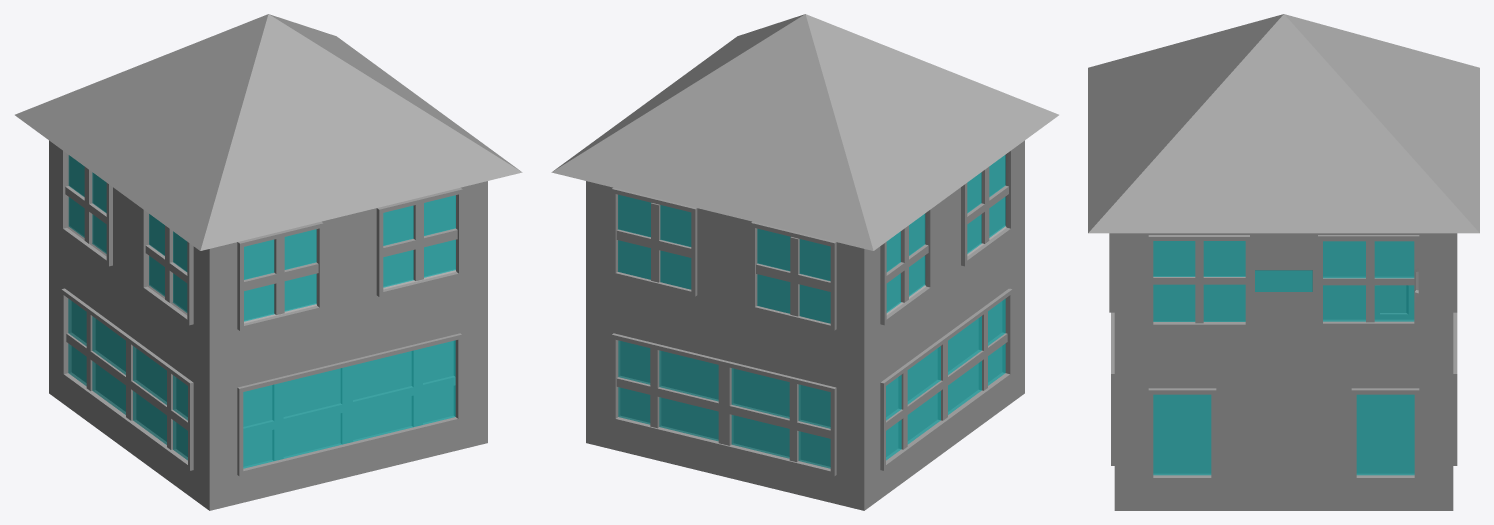
File: house.fbx
3 renders of one model, left to right at view 1: azimuth 30°, elevation 25°; view 2: azimuth 150°, elevation 25°; view 3: azimuth 270°, elevation 25°, orthographic. The views are drawn at different scales.
Parts seen in each view (by area): view 1: pCube3; view 2: pCube3; view 3: pCube3.
Boxes of the visible parts, x1=… form: pCube3: x1=15, y1=14, x2=522, y2=510; pCube3: x1=551, y1=14, x2=1058, y2=510; pCube3: x1=1088, y1=14, x2=1479, y2=510.
Size of the model in its own units: 6.79 by 8.13 by 6.79.
